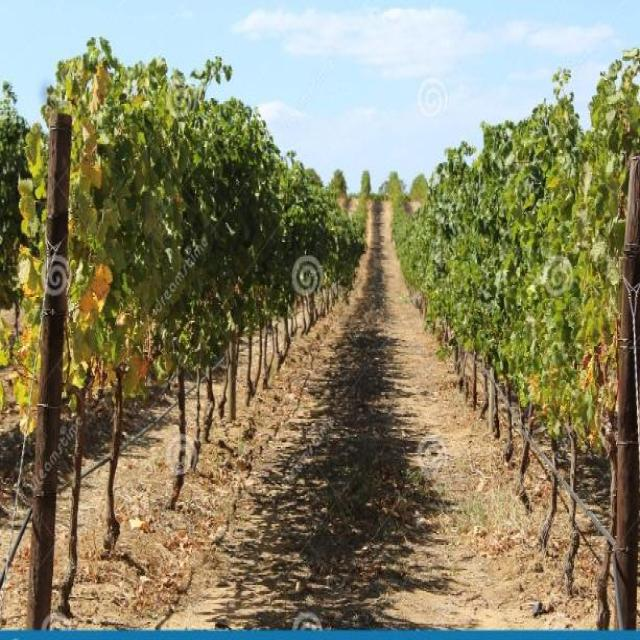row: (49, 193, 594, 628)
